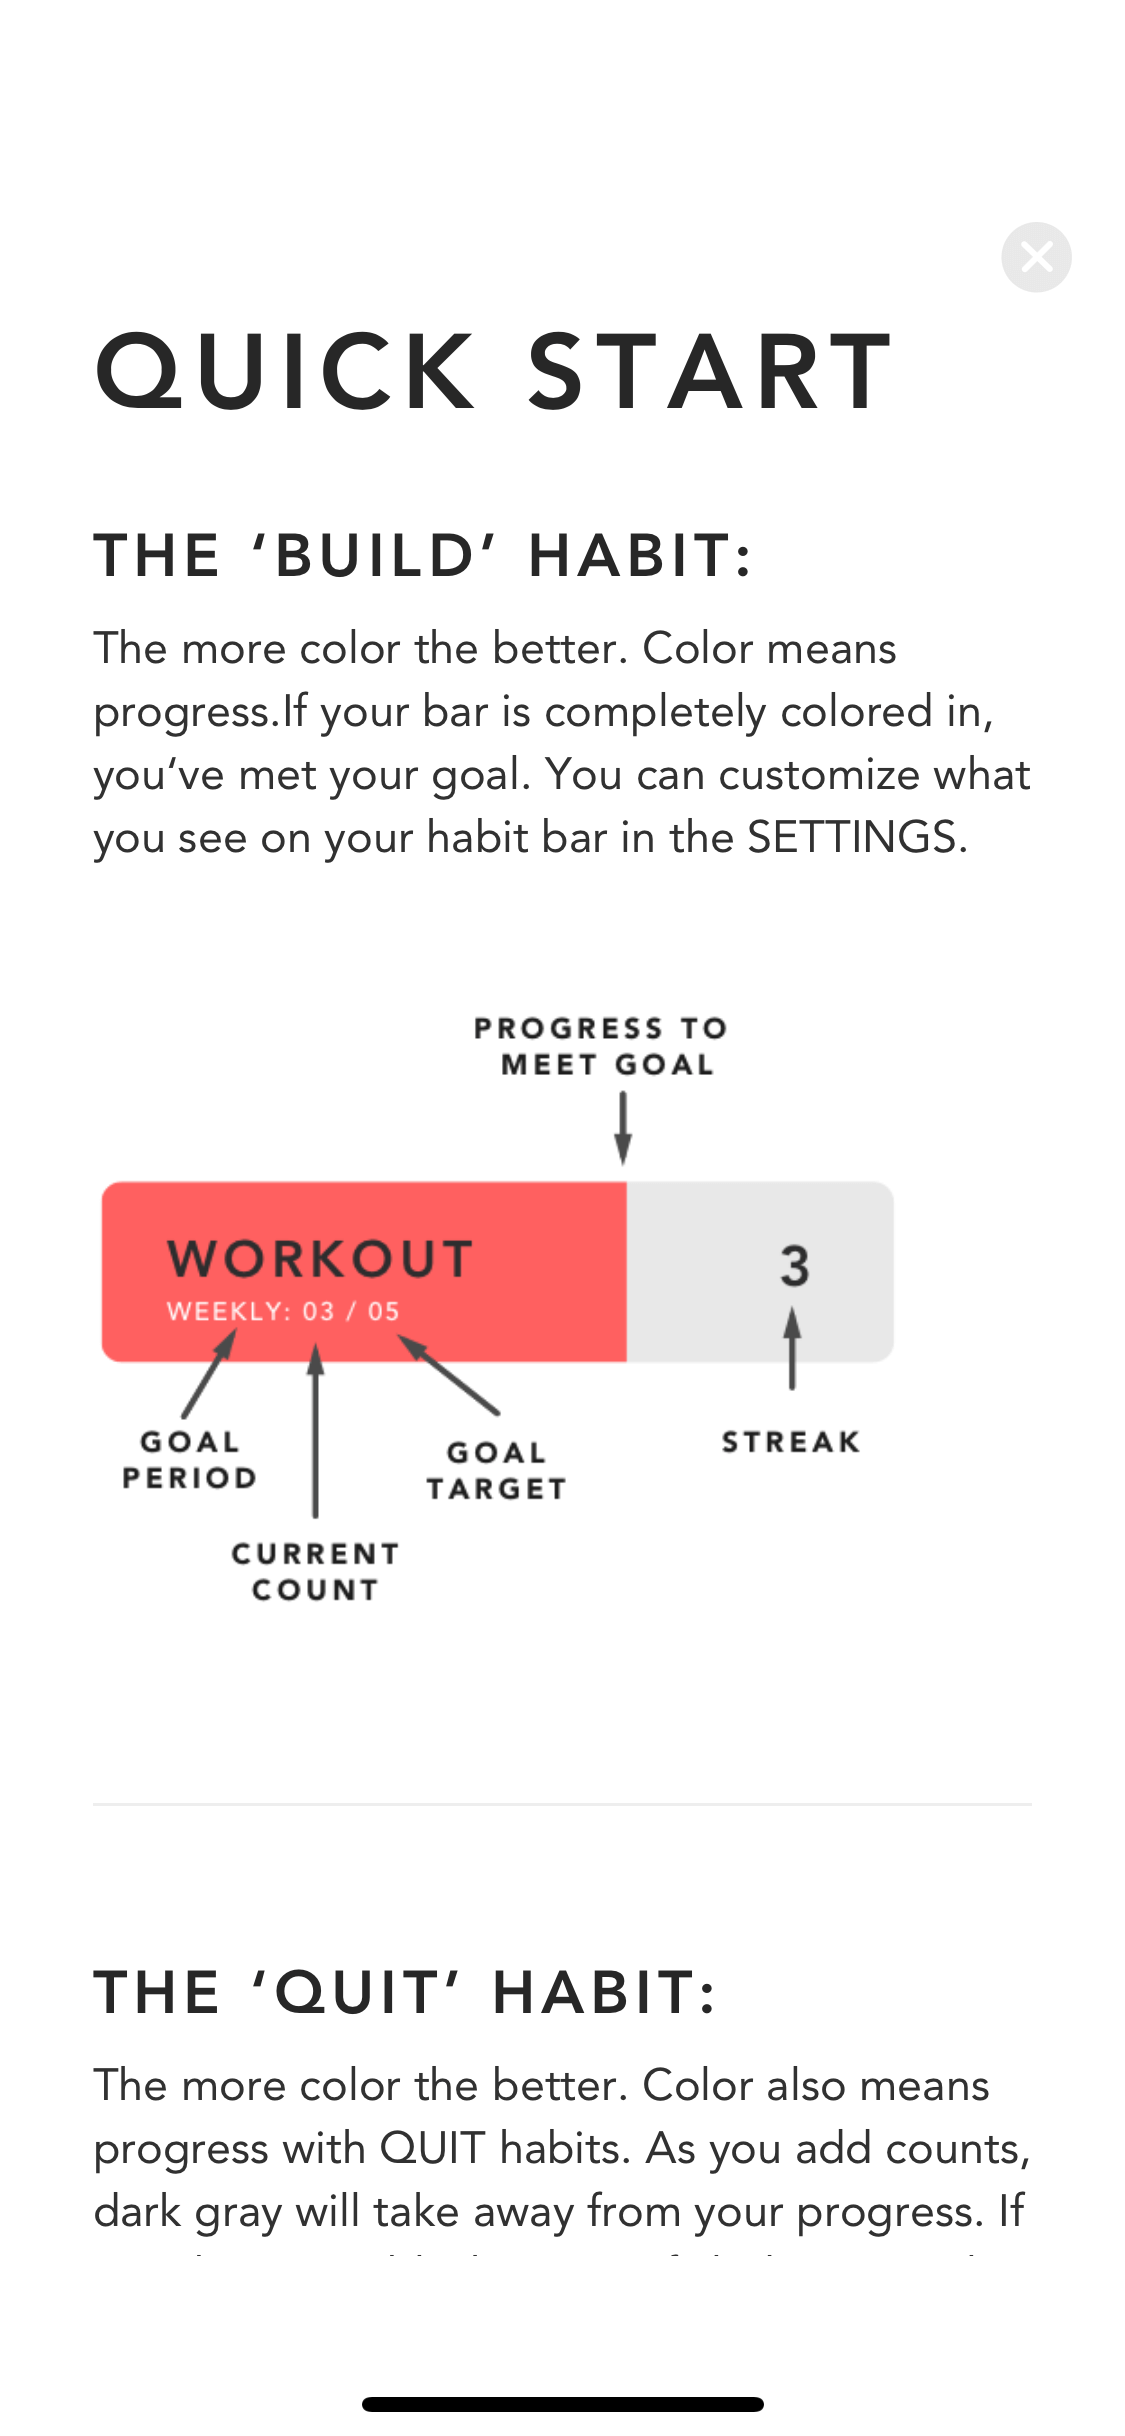Buttons: (977, 204, 1099, 315)
